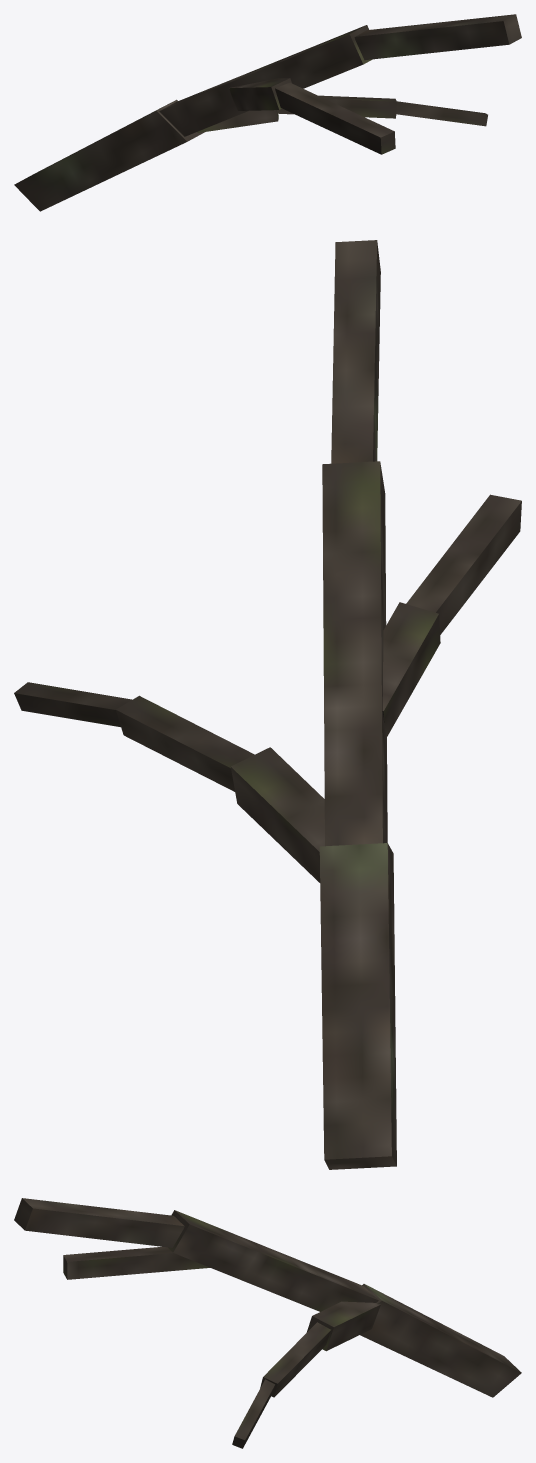
The model's file is spruce_twig_branch_up_diagonal_3.obj.
The picture shows the model from 3 angles, top to bottom: view 1: azimuth 30°, elevation 25°; view 2: azimuth 150°, elevation 25°; view 3: azimuth 270°, elevation 25°; orthographic projection. The views are drawn at different scales.
Parts seen in each view (by area): view 1: cube; view 2: cube; view 3: cube.
Part boxes in pixels (x1,y1,x2,y2): cube: [14, 14, 521, 211]; cube: [14, 240, 521, 1169]; cube: [14, 1198, 521, 1448].
Size of the model in its own units: 1.66 by 1.39 by 2.13.
